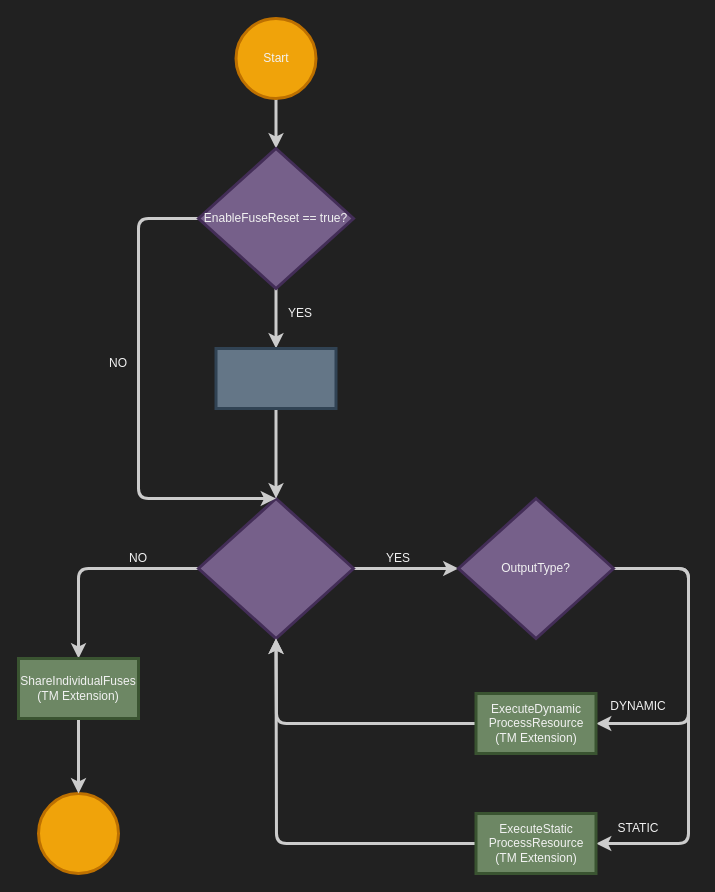
This 715x892 diagram has some shape labels left out. Here are the shapes that lost their labels. From the top down, the centre of each, then its label:
At [275,378]: "Reset fuses".
At [275,568]: "ProcessResource != null?".
At [78,833]: "End".
